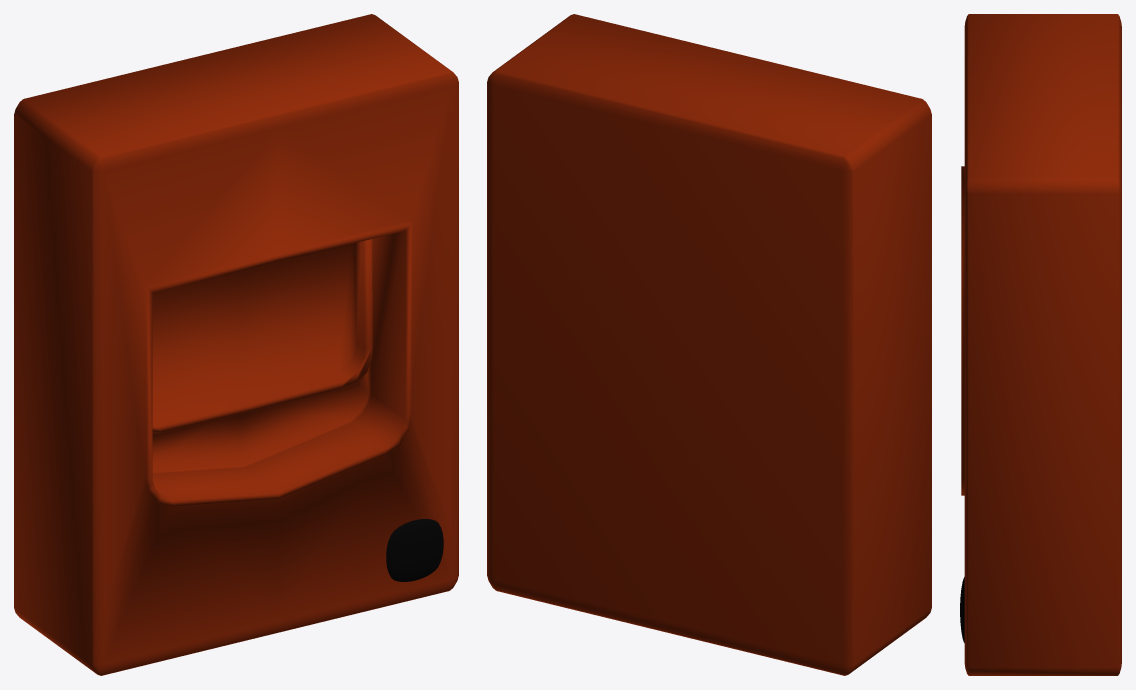
The model's file is FireAlarm.fbx.
3 renders of one model, left to right at view 1: azimuth 30°, elevation 25°; view 2: azimuth 150°, elevation 25°; view 3: azimuth 270°, elevation 25°, orthographic. The views are drawn at different scales.
Parts seen in each view (by area): view 1: FireAlarm, ButtonLock; view 2: FireAlarm; view 3: FireAlarm, ButtonLock.
Boxes of the visible parts, left/top/right/bottom form: FireAlarm: left=14, top=14, right=458, bottom=675; ButtonLock: left=386, top=519, right=443, bottom=581; FireAlarm: left=487, top=14, right=931, bottom=675; FireAlarm: left=961, top=14, right=1121, bottom=675; ButtonLock: left=960, top=577, right=964, bottom=642.
Size of the model in its own units: 36.93 by 50 by 14.7.
